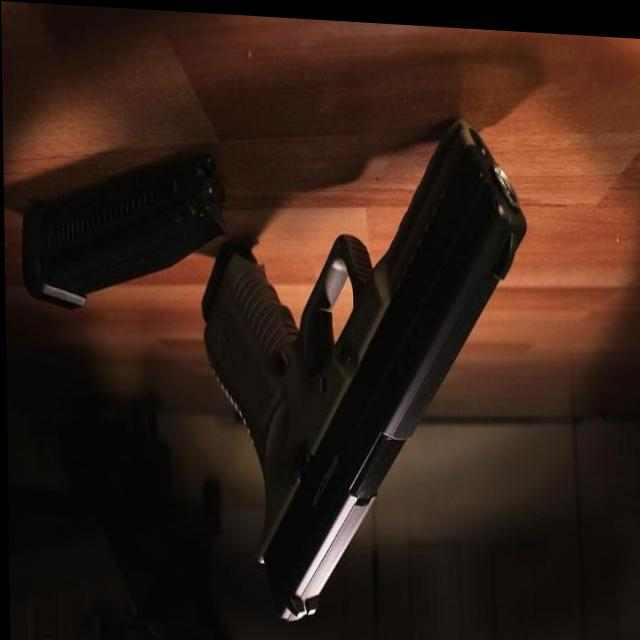handgun: (194, 117, 528, 632)
